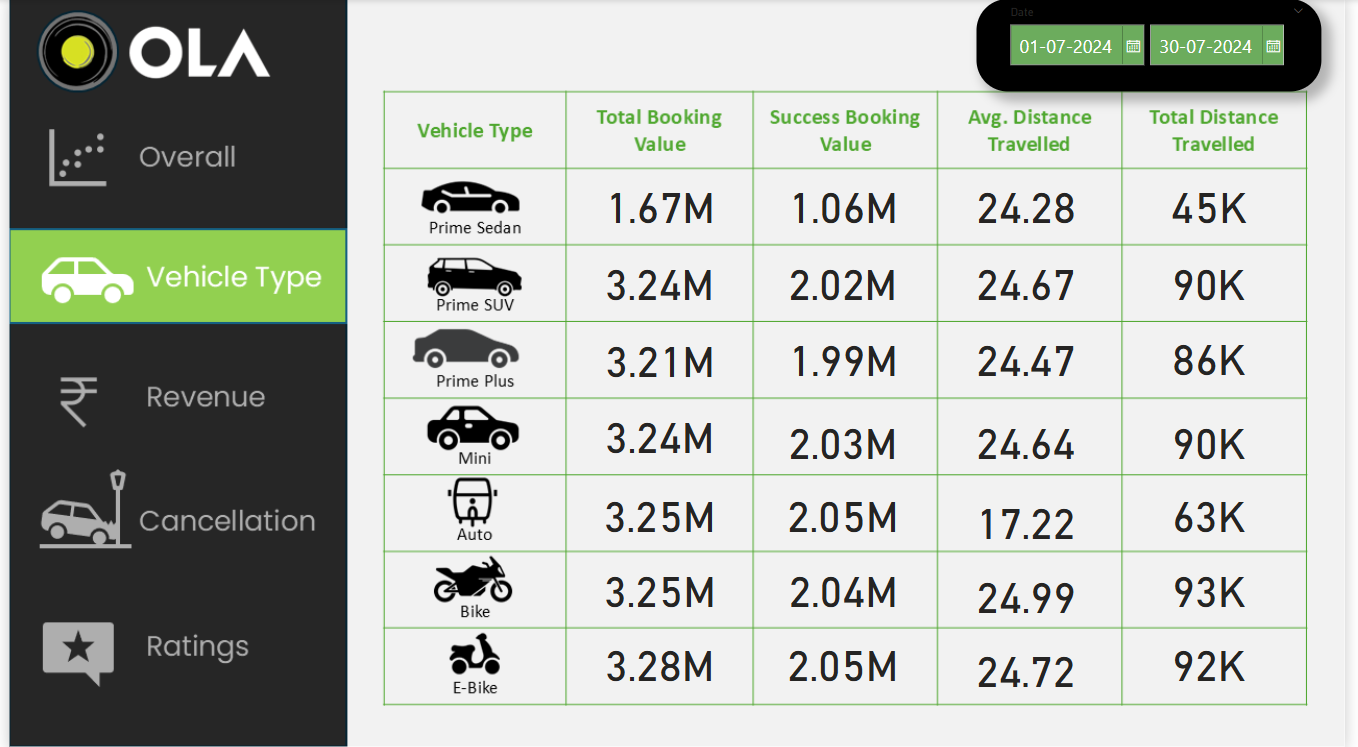

The page's visual inventory and layout, read from the dashboard file:
{"tool":"powerbi","page":{"name":"Vehicle Type","canvas":[1280,720],"ordinal":1},"visuals":[{"type":"actionButton","box":[0,330.8,322.1,93.5],"z":0},{"type":"card","fields":{"Values":["Sum(Bookings (2).Booking_Value)"]},"box":[536.4,162.8,175.3,66.8],"z":1000},{"type":"card","fields":{"Values":["Sum(Bookings (2).Booking_Value)"]},"box":[536.4,229.6,175.3,79.3],"z":2000},{"type":"card","fields":{"Values":["Sum(Bookings (2).Booking_Value)"]},"box":[536.4,311,175.3,66.8],"z":3000},{"type":"card","fields":{"Values":["Sum(Bookings (2).Booking_Value)"]},"box":[536.4,377.7,175.3,77.2],"z":4000},{"type":"card","fields":{"Values":["Sum(Bookings (2).Booking_Value)"]},"box":[536.4,455,175.3,75.1],"z":5000},{"type":"card","fields":{"Values":["Sum(Bookings (2).Booking_Value)"]},"box":[536.4,530.1,175.3,66.8],"z":6000},{"type":"card","fields":{"Values":["Sum(Bookings (2).Booking_Value)"]},"box":[536.4,596.9,175.3,77.2],"z":7000},{"type":"card","fields":{"Values":["Sum(Bookings (2).Booking_Value)"]},"box":[711.7,162.8,175.3,66.8],"z":8000},{"type":"card","fields":{"Values":["Sum(Bookings (2).Booking_Value)"]},"box":[711.7,229.6,175.3,79.3],"z":9000},{"type":"card","fields":{"Values":["Sum(Bookings (2).Booking_Value)"]},"box":[711.7,308.9,175.3,66.8],"z":10000},{"type":"card","fields":{"Values":["Sum(Bookings (2).Booking_Value)"]},"box":[711.7,384,175.3,77.2],"z":11000},{"type":"card","fields":{"Values":["Sum(Bookings (2).Booking_Value)"]},"box":[711.7,455,175.3,75.1],"z":12000},{"type":"card","fields":{"Values":["Sum(Bookings (2).Booking_Value)"]},"box":[711.7,530.1,175.3,66.8],"z":13000},{"type":"card","fields":{"Values":["Sum(Bookings (2).Booking_Value)"]},"box":[711.7,596.9,175.3,77.2],"z":14000},{"type":"card","fields":{"Values":["Avg(Bookings (2).Ride_Distance)"]},"box":[887,162.8,175.3,66.8],"z":15000},{"type":"card","fields":{"Values":["Avg(Bookings (2).Ride_Distance)"]},"box":[887,229.6,175.3,79.3],"z":16000},{"type":"card","fields":{"Values":["Avg(Bookings (2).Ride_Distance)"]},"box":[887,315.1,175.3,56.3],"z":17000},{"type":"card","fields":{"Values":["Avg(Bookings (2).Ride_Distance)"]},"box":[887,384,175.3,77.2],"z":18000},{"type":"card","fields":{"Values":["Avg(Bookings (2).Ride_Distance)"]},"box":[887,461.2,175.3,75.1],"z":19000},{"type":"card","fields":{"Values":["Avg(Bookings (2).Ride_Distance)"]},"box":[887,536.4,175.3,66.8],"z":20000},{"type":"card","fields":{"Values":["Avg(Bookings (2).Ride_Distance)"]},"box":[887,603.1,175.3,77.2],"z":21000},{"type":"card","fields":{"Values":["Sum(Bookings (2).Ride_Distance)"]},"box":[1062.3,162.8,175.3,66.8],"z":22000},{"type":"card","fields":{"Values":["Sum(Bookings (2).Ride_Distance)"]},"box":[1062.3,229.6,175.3,79.3],"z":23000},{"type":"card","fields":{"Values":["Sum(Bookings (2).Ride_Distance)"]},"box":[1062.3,306.8,175.3,71],"z":24000},{"type":"card","fields":{"Values":["Sum(Bookings (2).Ride_Distance)"]},"box":[1062.3,384,175.3,77.2],"z":25000},{"type":"card","fields":{"Values":["Sum(Bookings (2).Ride_Distance)"]},"box":[1062.3,455,175.3,75.1],"z":26000},{"type":"card","fields":{"Values":["Sum(Bookings (2).Ride_Distance)"]},"box":[1062.3,530.1,175.3,66.8],"z":27000},{"type":"card","fields":{"Values":["Sum(Bookings (2).Ride_Distance)"]},"box":[1062.3,596.9,175.3,77.2],"z":28000},{"type":"slicer","title":"Date","fields":{"Values":["Bookings (2).Date"]},"box":[927.2,0,330.9,88.5],"z":29000}]}

Visuals, with their boxes on the page's 1280x720 design canvas (x1, y1, x2, y2). These are canvas units, not pixel positions in the 1358x747 screenshot, which may show the page scaled, cropped or inside an application window:
actionButton: 0:331:322:424
card - Sum(Bookings (2).Booking_Value): 536:163:712:230
card - Sum(Bookings (2).Booking_Value): 536:230:712:309
card - Sum(Bookings (2).Booking_Value): 536:311:712:378
card - Sum(Bookings (2).Booking_Value): 536:378:712:455
card - Sum(Bookings (2).Booking_Value): 536:455:712:530
card - Sum(Bookings (2).Booking_Value): 536:530:712:597
card - Sum(Bookings (2).Booking_Value): 536:597:712:674
card - Sum(Bookings (2).Booking_Value): 712:163:887:230
card - Sum(Bookings (2).Booking_Value): 712:230:887:309
card - Sum(Bookings (2).Booking_Value): 712:309:887:376
card - Sum(Bookings (2).Booking_Value): 712:384:887:461
card - Sum(Bookings (2).Booking_Value): 712:455:887:530
card - Sum(Bookings (2).Booking_Value): 712:530:887:597
card - Sum(Bookings (2).Booking_Value): 712:597:887:674
card - Avg(Bookings (2).Ride_Distance): 887:163:1062:230
card - Avg(Bookings (2).Ride_Distance): 887:230:1062:309
card - Avg(Bookings (2).Ride_Distance): 887:315:1062:371
card - Avg(Bookings (2).Ride_Distance): 887:384:1062:461
card - Avg(Bookings (2).Ride_Distance): 887:461:1062:536
card - Avg(Bookings (2).Ride_Distance): 887:536:1062:603
card - Avg(Bookings (2).Ride_Distance): 887:603:1062:680
card - Sum(Bookings (2).Ride_Distance): 1062:163:1238:230
card - Sum(Bookings (2).Ride_Distance): 1062:230:1238:309
card - Sum(Bookings (2).Ride_Distance): 1062:307:1238:378
card - Sum(Bookings (2).Ride_Distance): 1062:384:1238:461
card - Sum(Bookings (2).Ride_Distance): 1062:455:1238:530
card - Sum(Bookings (2).Ride_Distance): 1062:530:1238:597
card - Sum(Bookings (2).Ride_Distance): 1062:597:1238:674
"Date" slicer: 927:0:1258:88
